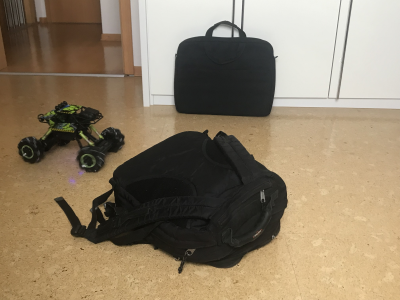remote control car: (17, 99, 128, 174)
